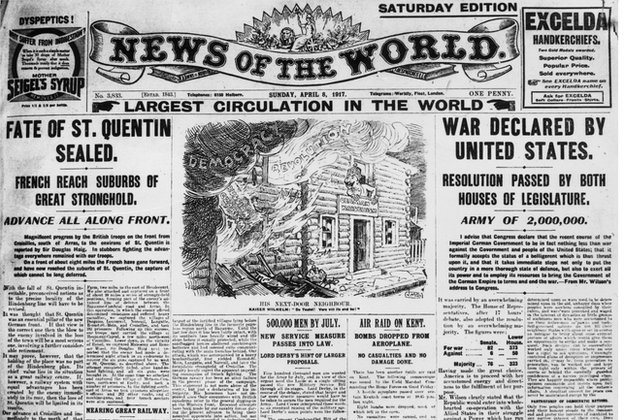latin: (3, 117, 172, 165), (440, 114, 608, 160), (441, 170, 608, 205), (122, 98, 484, 113), (13, 172, 160, 206), (524, 10, 609, 48), (376, 0, 519, 12), (2, 214, 170, 224), (459, 214, 588, 227), (265, 316, 343, 329), (358, 316, 426, 329)
